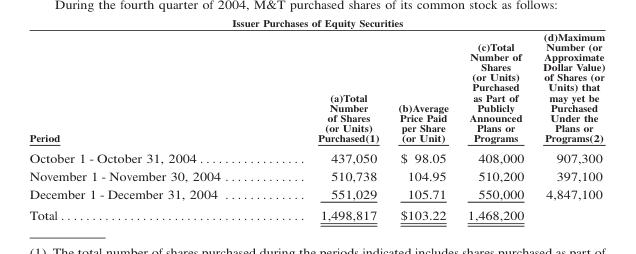table: (28, 29, 604, 222)
table column: (28, 29, 311, 222), (311, 29, 388, 222), (457, 29, 532, 222), (532, 29, 604, 222), (388, 29, 457, 222)
table column header: (28, 29, 604, 132)
table row: (28, 29, 604, 132), (28, 146, 604, 166), (28, 184, 604, 203), (28, 203, 604, 222), (28, 166, 604, 184), (28, 132, 604, 146)
